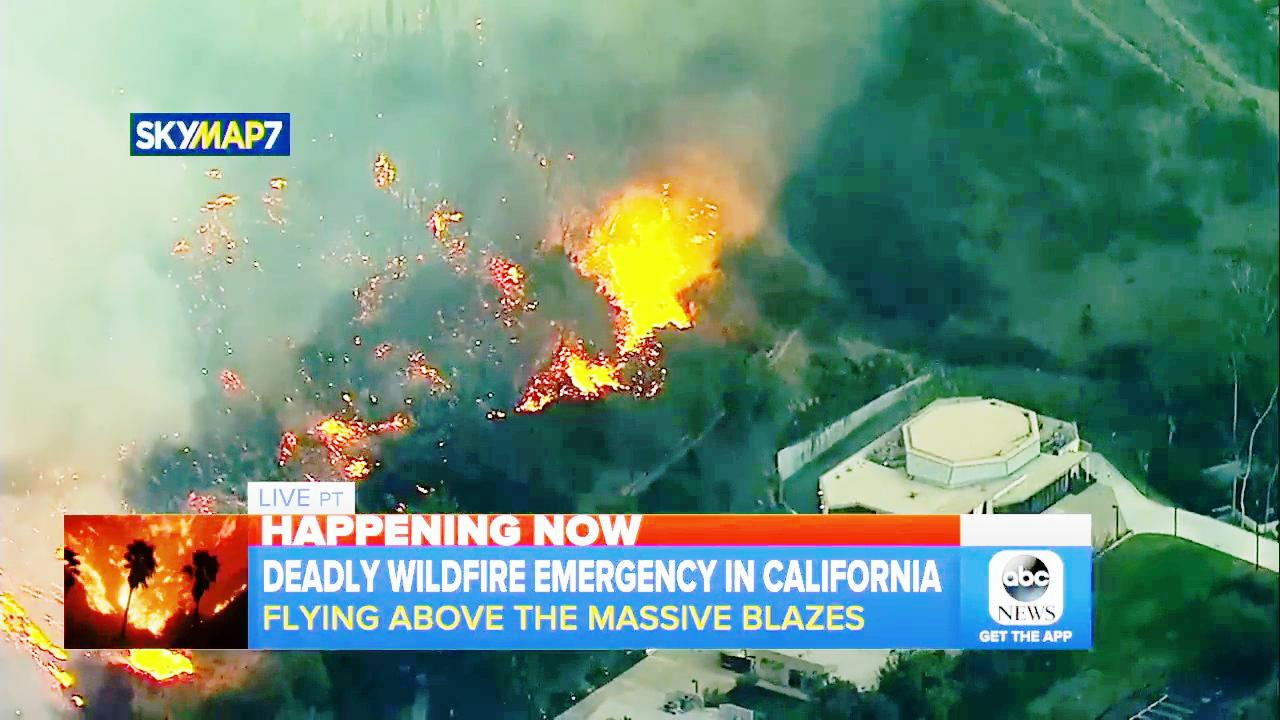fire: (564, 197, 725, 410)
smoke: (0, 170, 193, 502)
